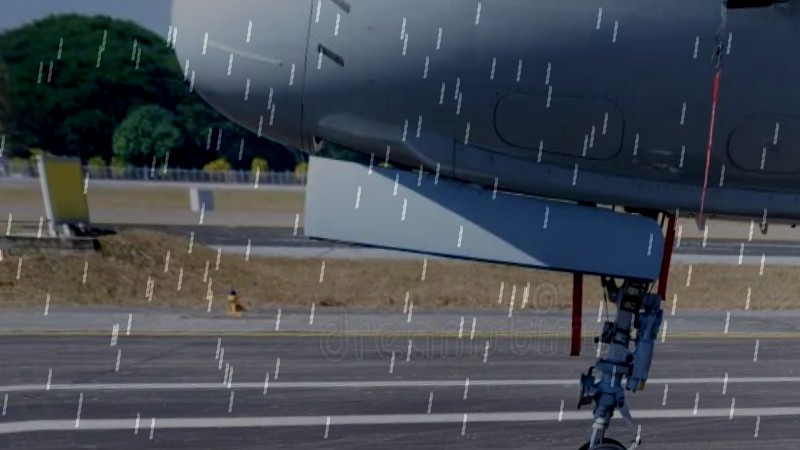wheel: (556, 430, 645, 450), (564, 432, 631, 450)
